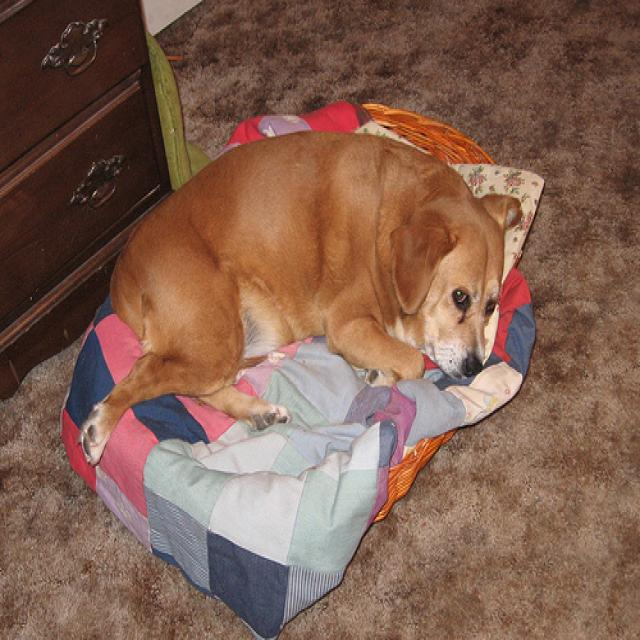dog-beagle: (67, 114, 534, 471)
